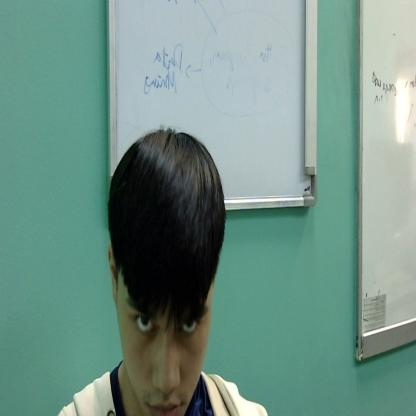Open-Eyes: (126, 298, 209, 345)
